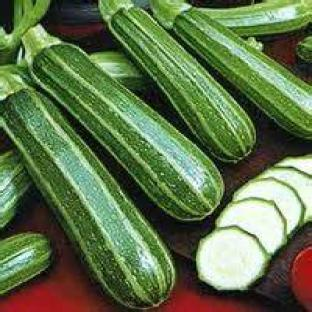Zucchini: (0, 74, 174, 307), (24, 26, 223, 220), (196, 228, 269, 290), (233, 178, 305, 235), (216, 198, 287, 254), (0, 233, 51, 295), (259, 167, 311, 223), (0, 151, 31, 228), (91, 51, 148, 91), (277, 155, 311, 176), (297, 36, 311, 62), (247, 37, 263, 50)
